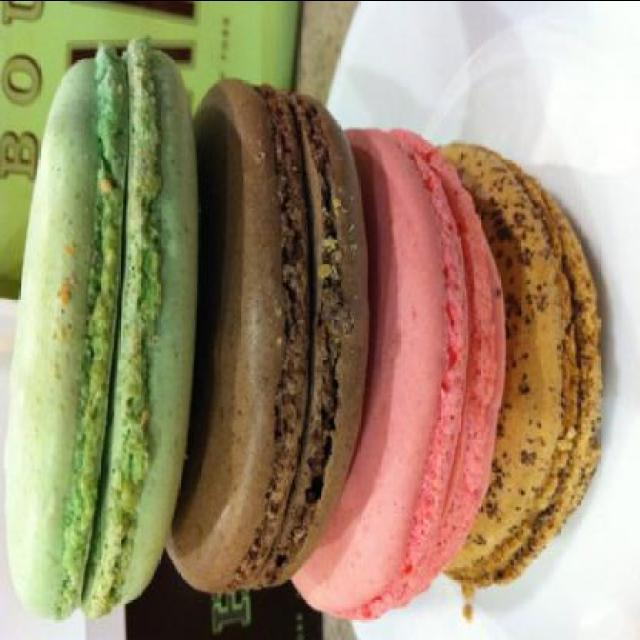Macaron: (4, 103, 618, 634)
